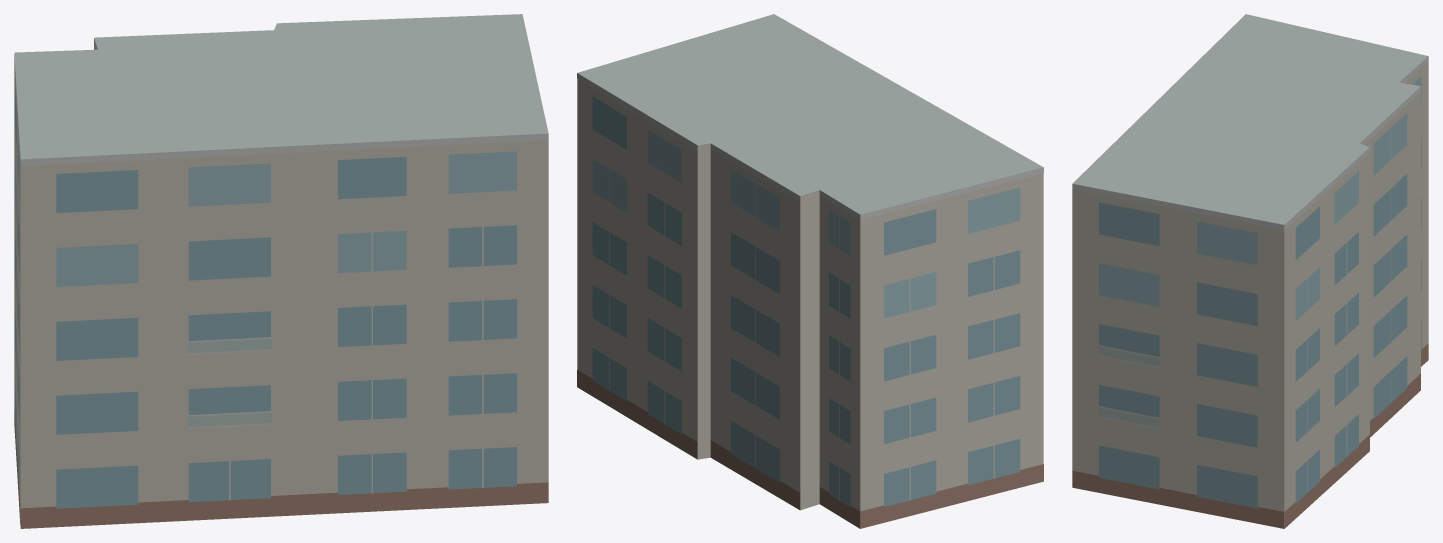
File: survey-upis-32637424.glb
3 views of the same model, side by side, from view 1: azimuth 30°, elevation 25°; view 2: azimuth 150°, elevation 25°; view 3: azimuth 270°, elevation 25° (orthographic). The views are drawn at different scales.
Parts seen in each view (by area): view 1: survey-upis-32637424.tmp; view 2: survey-upis-32637424.tmp; view 3: survey-upis-32637424.tmp.
Boxes of the visible parts, left/top/right/bottom form: survey-upis-32637424.tmp: left=14, top=14, right=548, bottom=528; survey-upis-32637424.tmp: left=577, top=14, right=1043, bottom=528; survey-upis-32637424.tmp: left=1072, top=14, right=1428, bottom=528.
Size of the model in its own units: 19.95 by 13.4 by 14.24.
